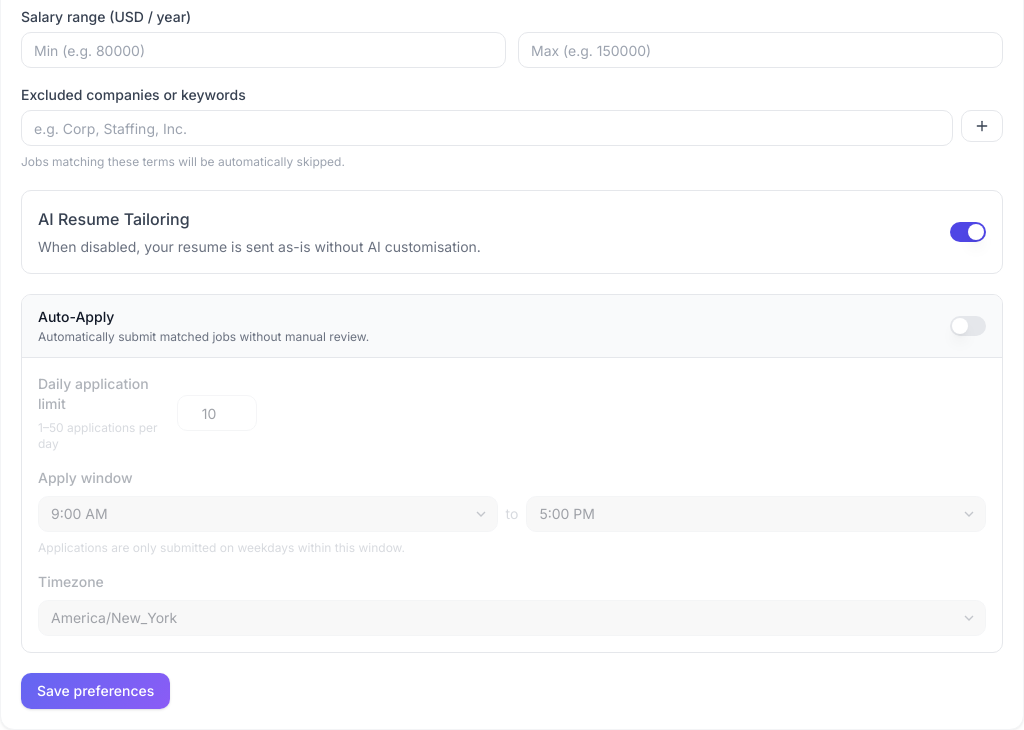
Test: PreferencesForm › shows error if no target title is added
This screenshot has width=1024, height=730.
(page scrolled)
Expected: the text "Software Engineer" is not shown
Click the button "Save preferences". click: (96, 691)
box: [21, 673, 170, 709]
(page scrolled)
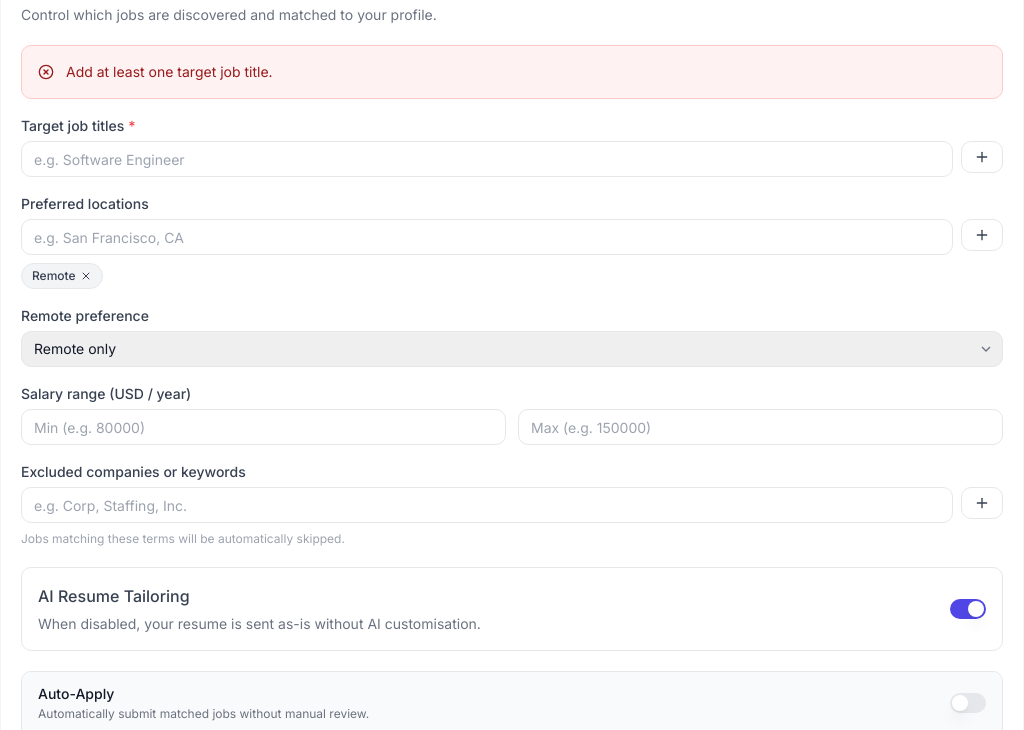
Result: the text "Add at least one target job title." is shown at [66, 63, 273, 80]
